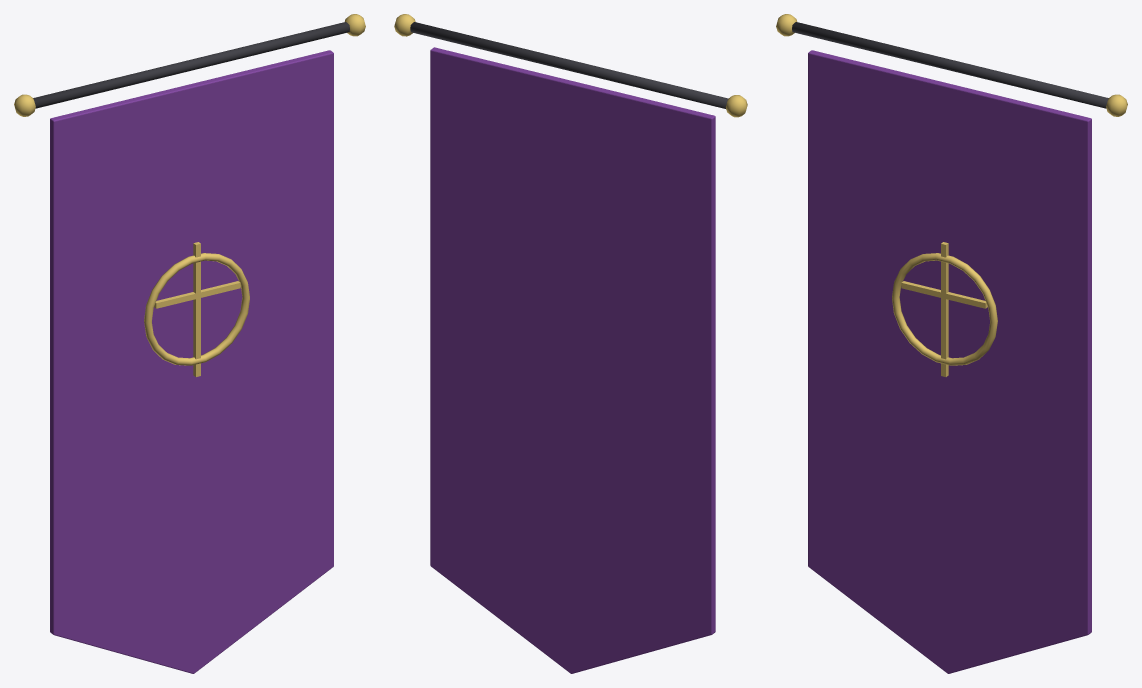
File: banner_house_purple.glb
3 renders of one model, left to right at view 1: azimuth 30°, elevation 25°; view 2: azimuth 150°, elevation 25°; view 3: azimuth 330°, elevation 25°, orthographic.
Visible parts, largest first — view 1: GD_banner_house_purple__m2, GD_banner_house_purple__m1, GD_banner_house_purple__m0; view 2: GD_banner_house_purple__m2, GD_banner_house_purple__m0, GD_banner_house_purple__m1; view 3: GD_banner_house_purple__m2, GD_banner_house_purple__m1, GD_banner_house_purple__m0.
Part boxes in pixels (x1=…): GD_banner_house_purple__m2: x1=50, y1=50, x2=333, y2=673; GD_banner_house_purple__m1: x1=14, y1=14, x2=365, y2=376; GD_banner_house_purple__m0: x1=33, y1=22, x2=349, y2=108; GD_banner_house_purple__m2: x1=430, y1=47, x2=715, y2=673; GD_banner_house_purple__m0: x1=410, y1=22, x2=728, y2=108; GD_banner_house_purple__m1: x1=394, y1=14, x2=747, y2=117; GD_banner_house_purple__m2: x1=808, y1=50, x2=1091, y2=673; GD_banner_house_purple__m1: x1=776, y1=14, x2=1127, y2=376; GD_banner_house_purple__m0: x1=792, y1=22, x2=1108, y2=108.
Bounding box in the file's own units: 0.996 × 1.68 × 0.073.
